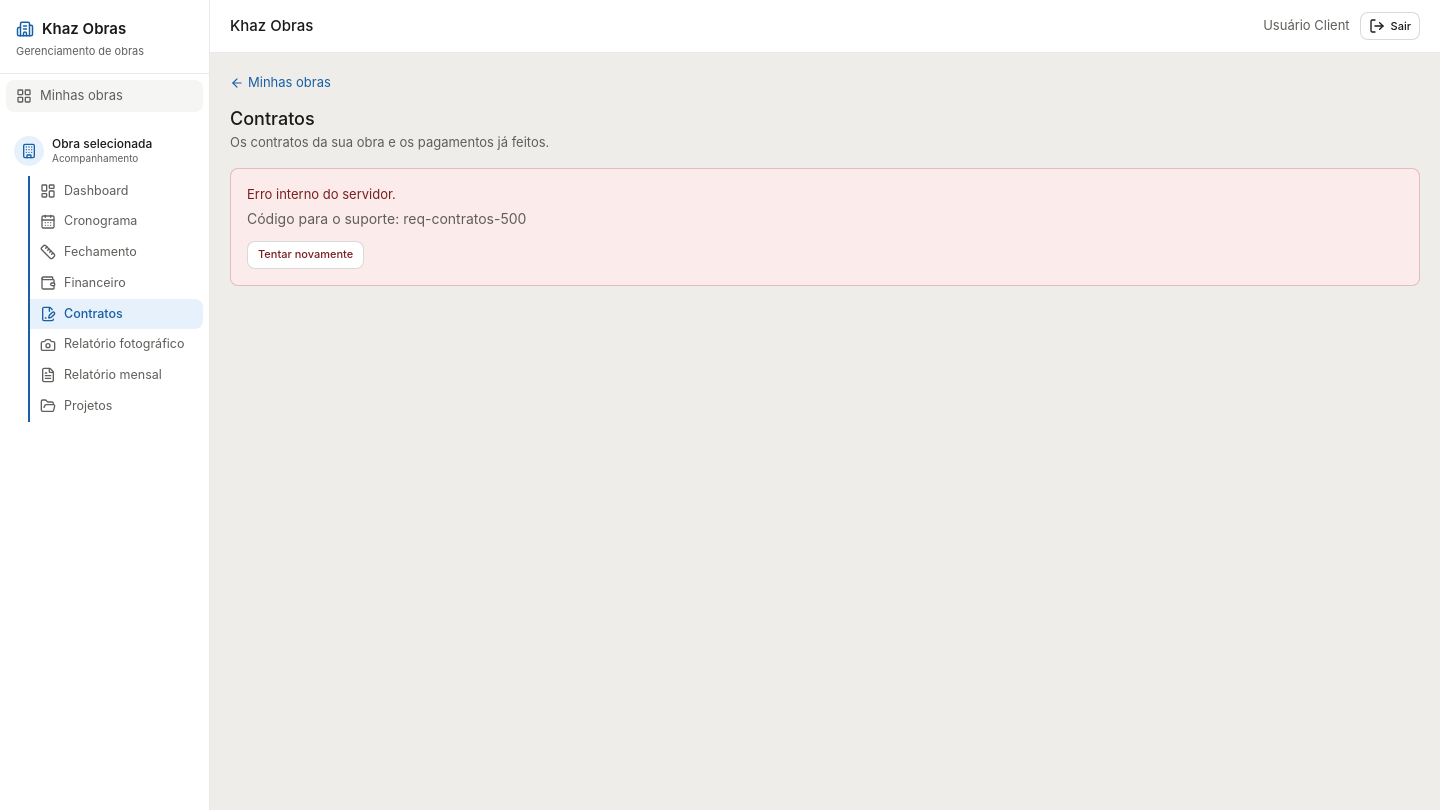
Contratos (cliente) - estados › erro 500 mostra o código de suporte e "Tentar novamente" recarrega
Expected: the message shows "req-contratos-500", [403,210,526,226]
Click the button "Tentar novamente" at (306, 254), box [247,240,364,268]
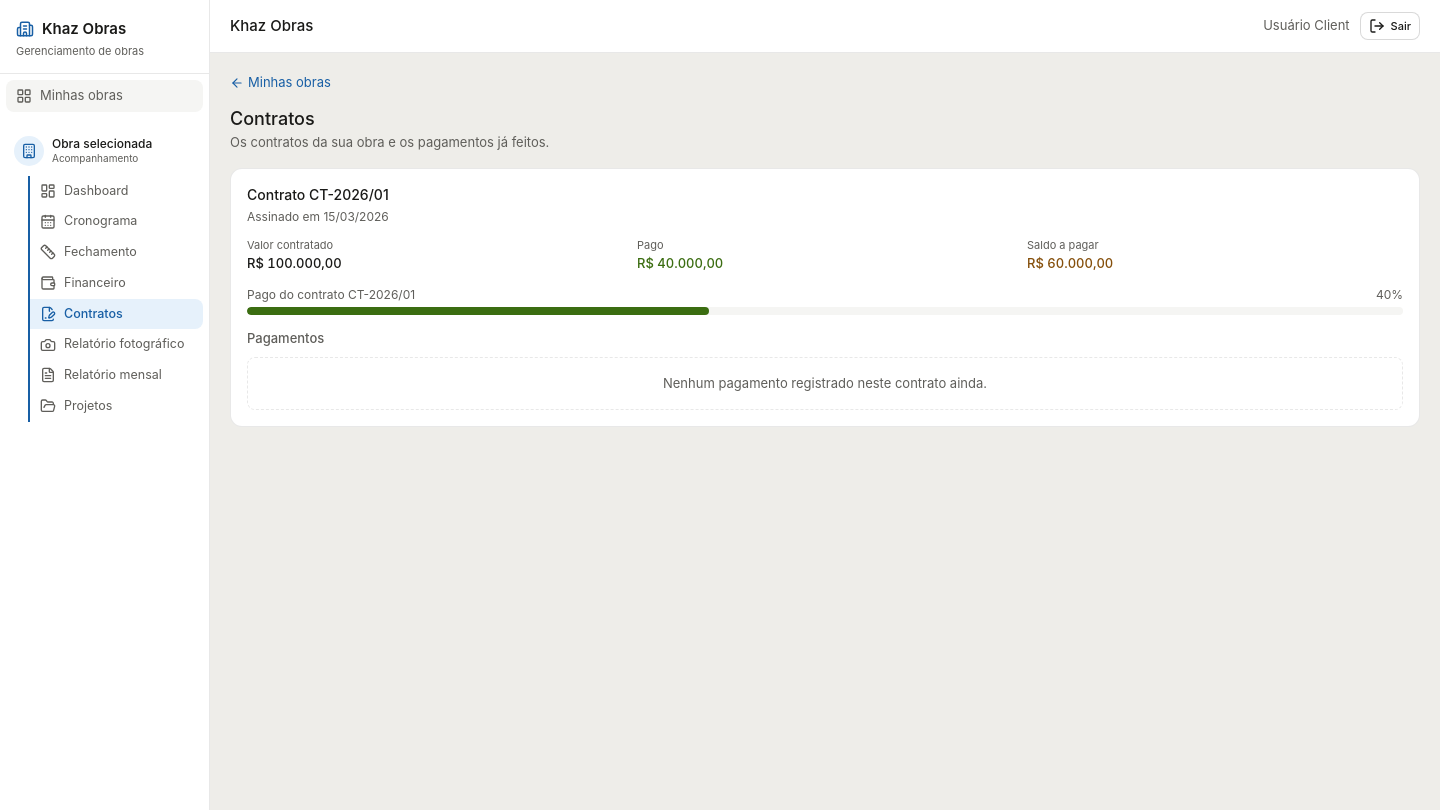
Now the heading "Contrato CT-2026/01" is shown, box [247,186,389,203]
